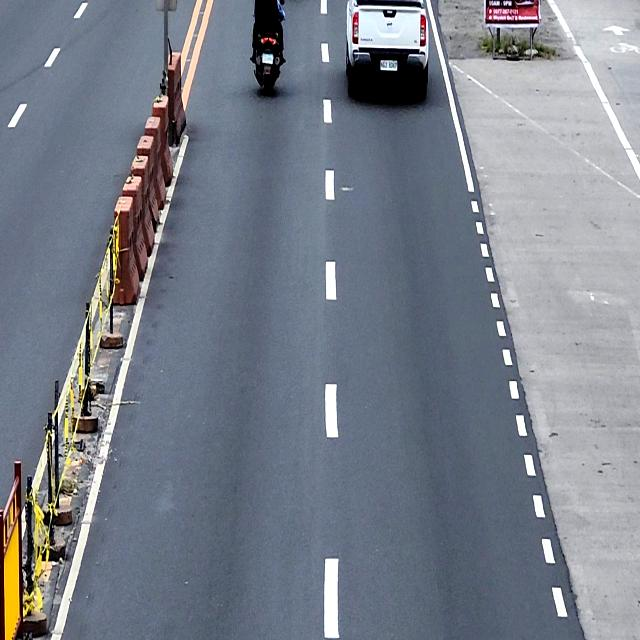Car: (346, 0, 430, 103)
License-Plate: (380, 59, 398, 72), (262, 53, 273, 64)
Motorcycle: (251, 0, 283, 95)
